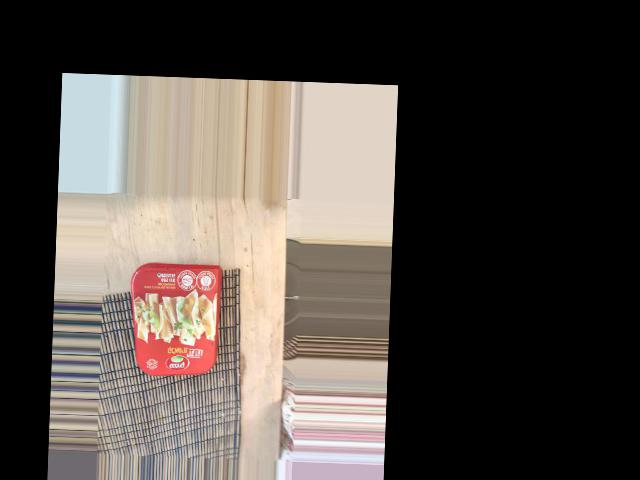cheese: (91, 324, 213, 423)
